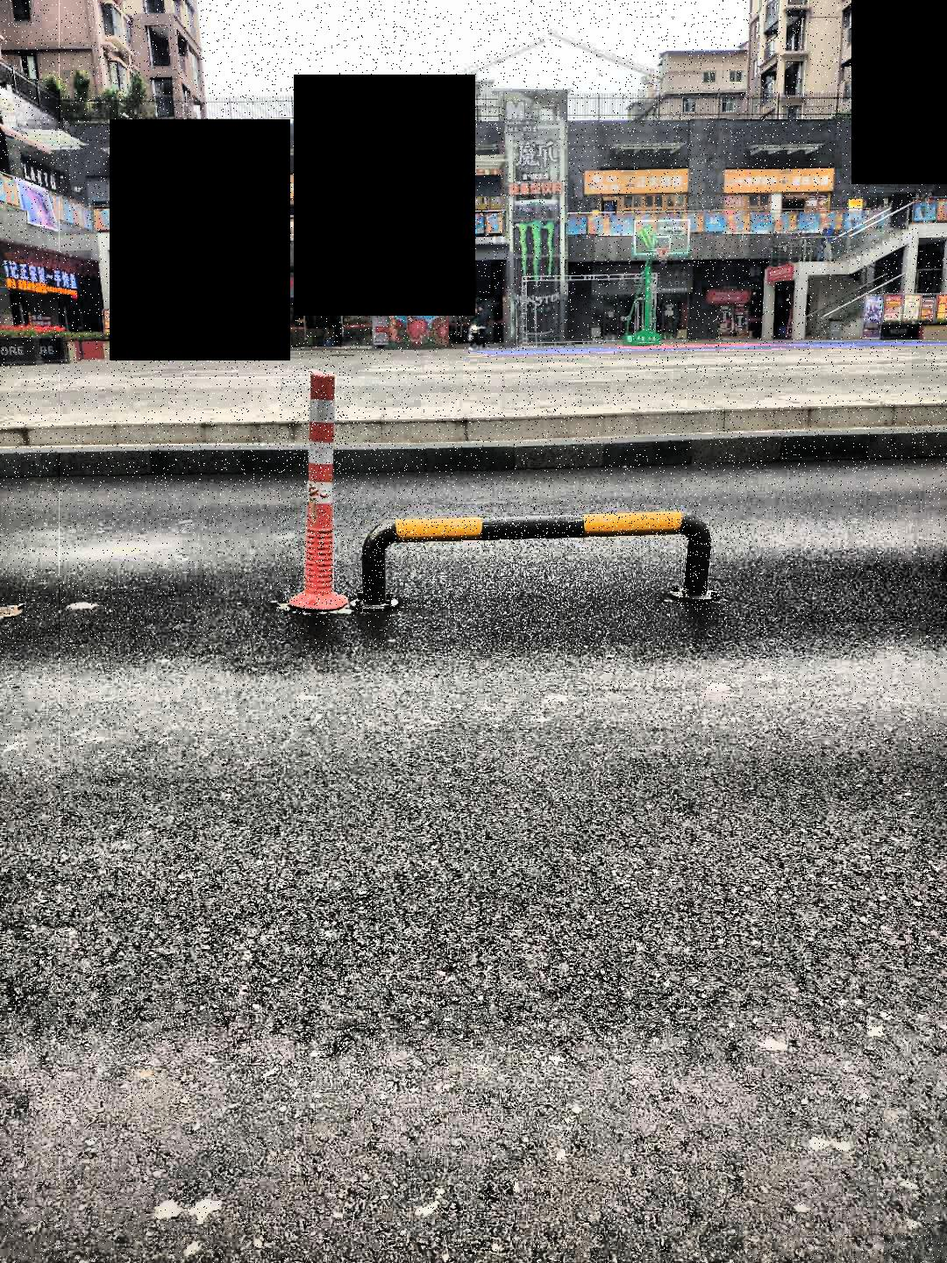bench: (276, 365, 358, 612)
can and bottle trash cans: (354, 503, 733, 612)
